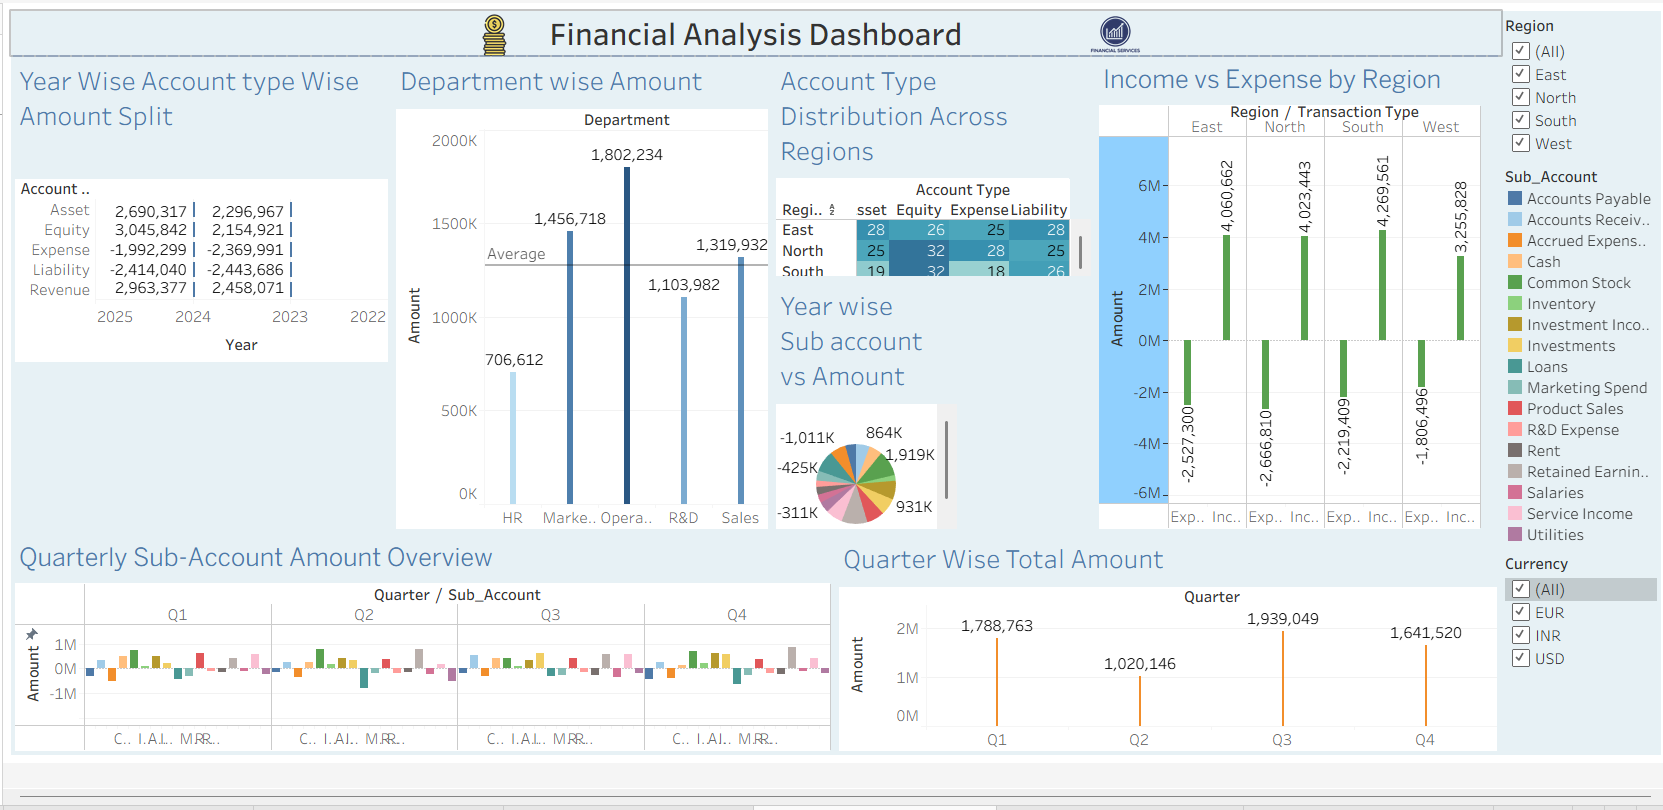

Layout of this report page (visuals, bound fields, positions):
{"tool":"tableau","page":{"name":"Financial Analysis Dashboard","canvas":[1000,1000],"units":"permille","ordinal":1},"visuals":[{"type":"image","param":"Image/png-transparent-financial-services-industry-brand-finance-others-miscellan","box":[630.2,6.2,75,59.9]},{"type":"title","box":[4.8,10,990.3,63.7]},{"type":"image","param":"Image/stacked coin image.png","box":[327.1,13.7,37.8,54.9]},{"type":"worksheet","title":"Year Wise Account type Amount","mark":"Automatic","rows":["Account_Type"],"cols":["Year"],"box":[4.8,73.7,269.4,573]},{"type":"worksheet","title":"Deparmtnent wise total amount","mark":"Automatic","rows":["Amount"],"cols":["Department"],"box":[274.3,73.7,236.6,625.5]},{"type":"worksheet","title":"Account Type Distribution Across Regions ","mark":"Square","rows":["Region"],"cols":["Account_Type"],"box":[510.9,73.7,247.7,272.2]},{"type":"worksheet","title":"Region wise Expense and Income","mark":"Automatic","rows":["Amount"],"cols":["Region","Transaction_Type"],"box":[758.6,73.7,236.6,613]},{"type":"worksheet","title":"Sheet 10","mark":"Pie","box":[510.9,345.8,247.7,353.3]},{"type":"worksheet","title":"Count of Department wise Currency used","mark":"Automatic","rows":["Amount"],"cols":["Quarter","Sub_Account"],"box":[4.8,699.1,495.2,290.9]},{"type":"worksheet","title":"Quarter Wise Total Amount","mark":"Bar","rows":["Amount"],"cols":["Quarter"],"box":[500,699.1,495.2,290.9]}]}

Visuals, with their boxes on the dashboard's canvas, which has no fixed pixel size, in thousandths of its width and height (x1, y1, x2, y2). These are canvas units, not pixel positions in the 1663x810 screenshot, which may show the page scaled, cropped or inside an application window:
image: 630:6:705:66
title: 5:10:995:74
image: 327:14:365:69
"Year Wise Account type Amount" worksheet: 5:74:274:647
"Deparmtnent wise total amount" worksheet: 274:74:511:699
"Account Type Distribution Across Regions " worksheet (Square marks): 511:74:759:346
"Region wise Expense and Income" worksheet: 759:74:995:687
"Sheet 10" worksheet (Pie marks): 511:346:759:699
"Count of Department wise Currency used" worksheet: 5:699:500:990
"Quarter Wise Total Amount" worksheet (Bar marks): 500:699:995:990
